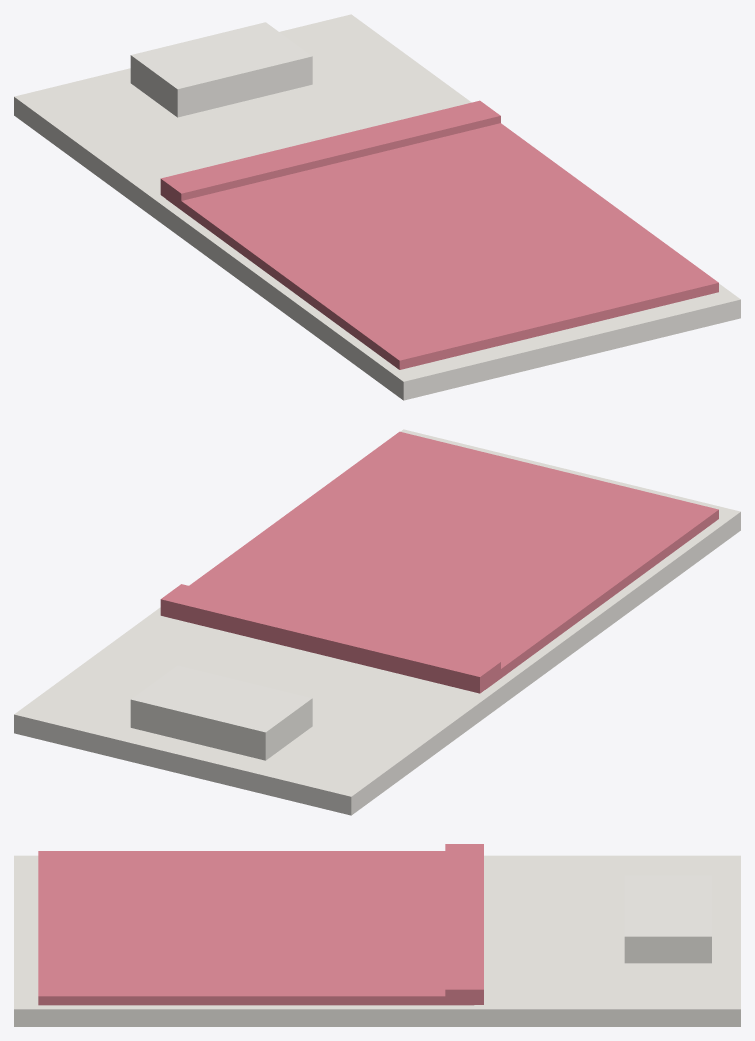
File: futon.glb
The picture shows the model from 3 angles, top to bottom: view 1: azimuth 30°, elevation 25°; view 2: azimuth 150°, elevation 25°; view 3: azimuth 270°, elevation 25°; orthographic projection. The views are drawn at different scales.
Visible parts, largest first — view 1: blanket, mattress, pillow; view 2: blanket, mattress, pillow; view 3: blanket, mattress, pillow.
Boxes of the visible parts, x1,y1,x2,y2 form: blanket: [160, 100, 718, 369]; mattress: [14, 14, 740, 400]; pillow: [130, 22, 312, 117]; blanket: [160, 431, 718, 693]; mattress: [14, 429, 740, 815]; pillow: [130, 665, 312, 760]; blanket: [38, 844, 483, 1005]; mattress: [14, 855, 740, 1026]; pillow: [624, 875, 711, 963].
Bounding box in the file's own units: 0.75 × 0.1 × 1.5.
